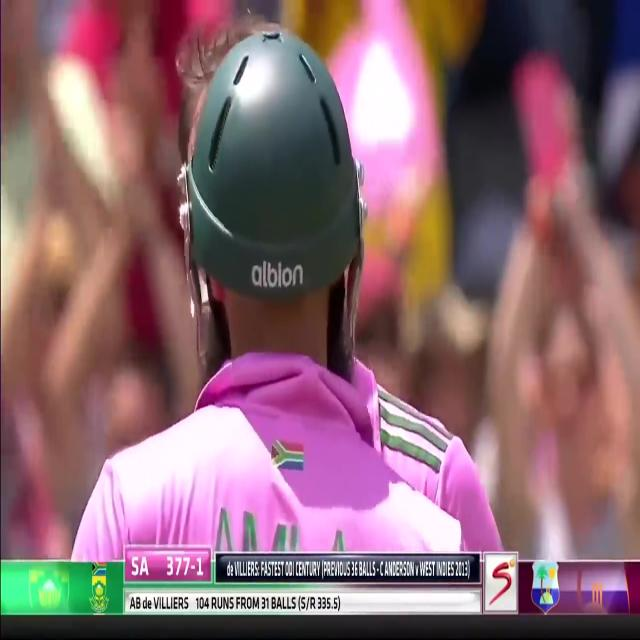Ball: (82, 52, 491, 558)
